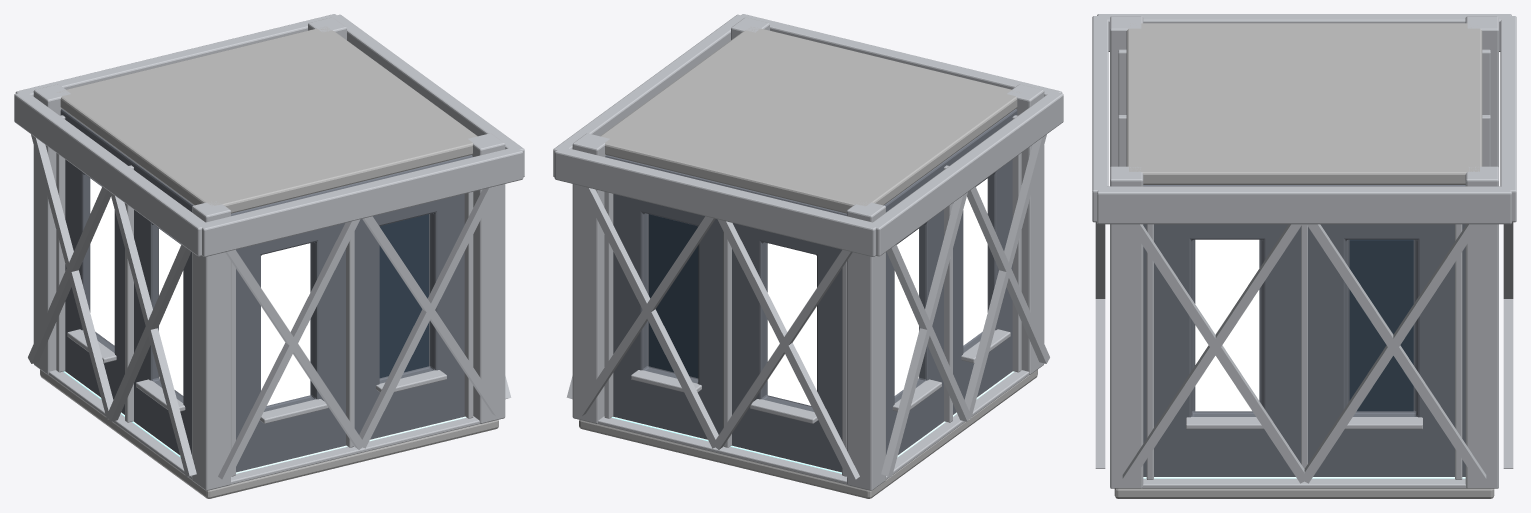
File: exo_3x3.glb
The picture shows the model from 3 angles, left to right: view 1: azimuth 30°, elevation 25°; view 2: azimuth 150°, elevation 25°; view 3: azimuth 270°, elevation 25°; orthographic projection. The views are drawn at different scales.
Parts seen in each view (by area): view 1: int_ceiling, ext_wall, int_columns, ext_panes_lit, ext_truss3, ext_frames, ext_truss2, ext_panes_dark, int_slab, int_slab_edge, ext_brace3_0_1, ext_truss0 (+9 smaller); view 2: int_ceiling, ext_wall, int_columns, ext_panes_lit, ext_truss1, ext_frames, ext_truss2, ext_panes_dark, int_slab, int_slab_edge, ext_brace1_1_1, ext_truss0 (+9 smaller); view 3: int_ceiling, ext_wall, int_columns, ext_truss0, ext_frames, ext_panes_lit, ext_panes_dark, int_slab, ext_brace0_1_0, ext_brace0_0_0, ext_brace0_0_1, ext_truss2 (+9 smaller).
Part boxes in pixels (<box>): int_ceiling: <box>57,26,477,213</box>; ext_wall: <box>60,109,472,472</box>; int_columns: <box>33,17,505,490</box>; ext_panes_lit: <box>90,178,310,405</box>; ext_truss3: <box>200,147,523,256</box>; ext_frames: <box>56,115,473,476</box>; ext_truss2: <box>14,91,207,256</box>; ext_panes_dark: <box>379,214,428,378</box>; int_slab: <box>40,369,498,498</box>; int_slab_edge: <box>48,370,479,484</box>; ext_brace3_0_1: <box>218,219,360,481</box>; ext_truss0: <box>330,14,524,177</box>; int_ceiling: <box>600,27,1019,213</box>; ext_wall: <box>605,109,1017,472</box>; int_columns: <box>572,17,1044,490</box>; ext_panes_lit: <box>767,178,987,405</box>; ext_truss1: <box>554,147,878,256</box>; ext_frames: <box>604,115,1021,476</box>; ext_truss2: <box>872,91,1063,256</box>; ext_panes_dark: <box>649,214,698,378</box>; int_slab: <box>579,369,1037,498</box>; int_slab_edge: <box>598,370,1029,484</box>; ext_brace1_1_1: <box>717,219,859,481</box>; ext_truss0: <box>553,14,747,177</box>; int_ceiling: <box>1126,23,1482,184</box>; ext_wall: <box>1143,185,1465,476</box>; int_columns: <box>1110,16,1498,488</box>; ext_truss0: <box>1097,186,1511,224</box>; ext_frames: <box>1118,49,1490,479</box>; ext_panes_lit: <box>1195,239,1259,411</box>; ext_panes_dark: <box>1349,239,1413,411</box>; int_slab: <box>1114,488,1494,498</box>; ext_brace0_1_0: <box>1307,224,1486,483</box>; ext_brace0_0_0: <box>1129,224,1307,483</box>; ext_brace0_0_1: <box>1122,224,1301,483</box>; ext_truss2: <box>1097,14,1511,51</box>.
Size of the model in its own units: 3.58 by 3 by 3.58.
